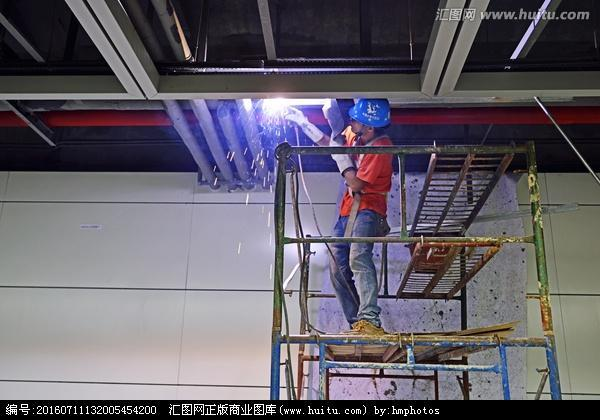helmet: (349, 91, 396, 125)
person: (322, 91, 408, 337)
